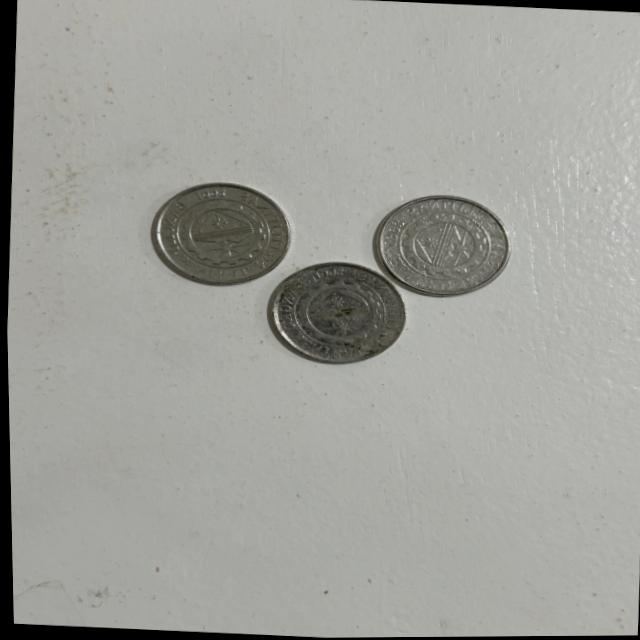1_Old_Back: (283, 271, 392, 355), (168, 193, 275, 277), (389, 210, 497, 283)
